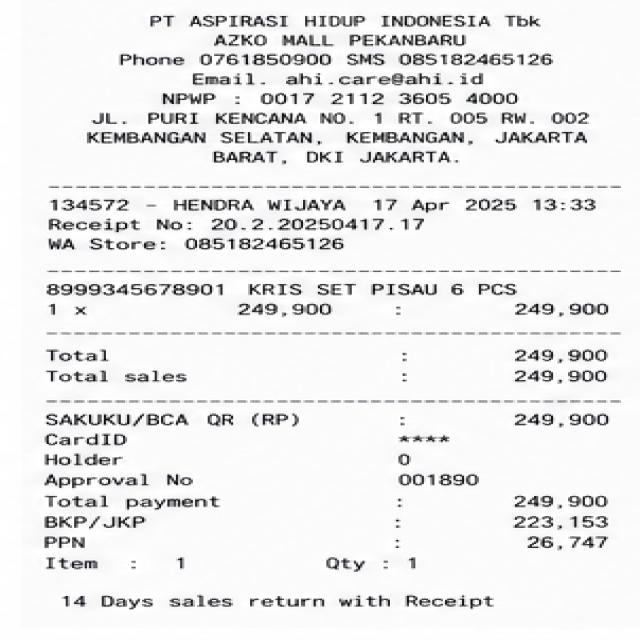date: (370, 194, 608, 214)
store: (145, 12, 557, 48)
total: (42, 491, 613, 512)
